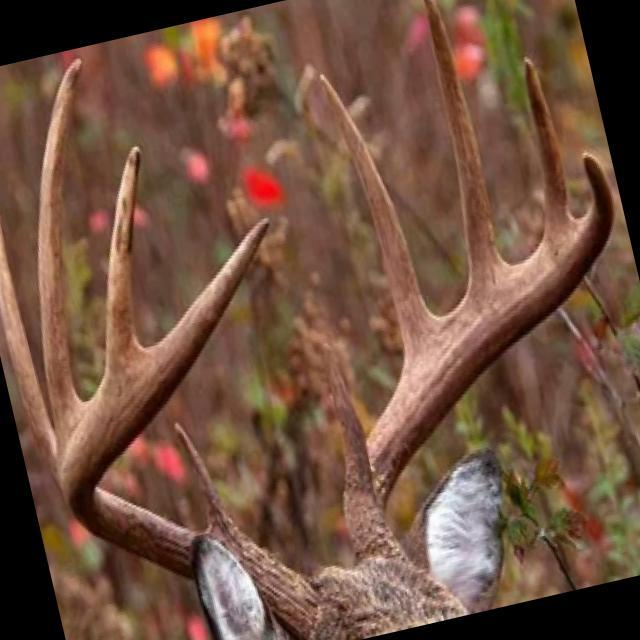L-G1: (322, 328, 374, 498)
L-G2: (308, 76, 428, 360)
L-G3: (422, 0, 507, 286)
L-G4: (523, 55, 574, 231)
R-G1: (172, 419, 235, 531)
R-G3: (37, 56, 83, 440)
R-G4: (104, 143, 143, 366)
